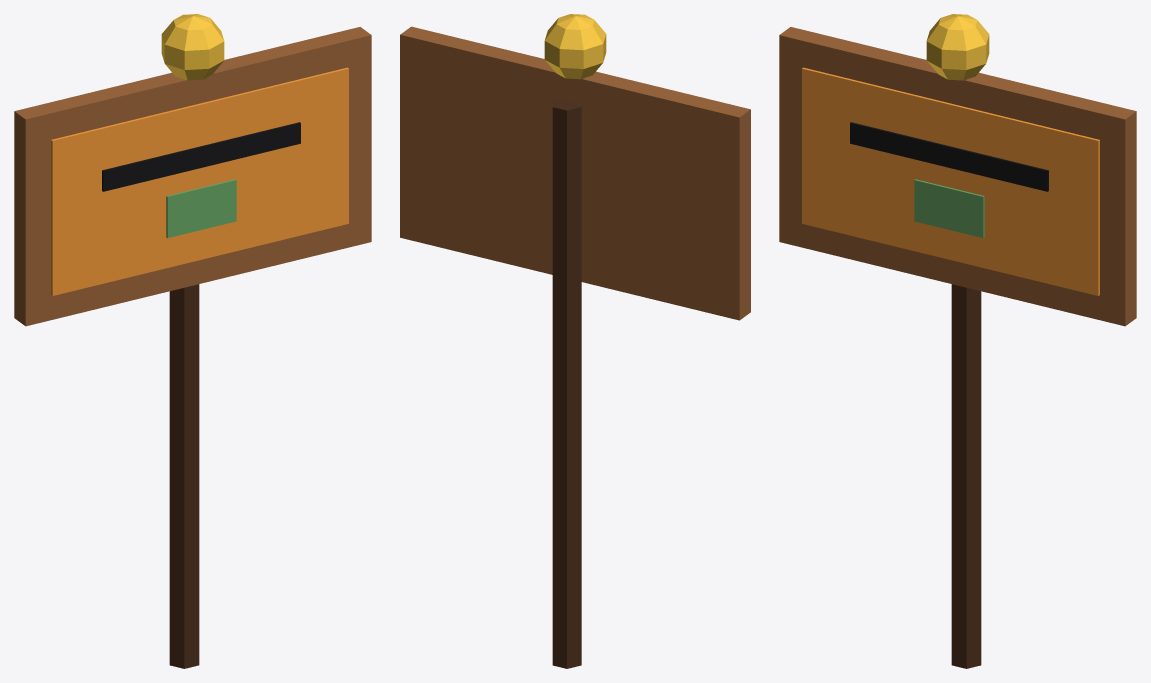
File: sale_sign.obj
3 renders of one model, left to right at view 1: azimuth 30°, elevation 25°; view 2: azimuth 150°, elevation 25°; view 3: azimuth 330°, elevation 25°, orthographic.
Parts seen in each view (by area): view 1: sale_sign; view 2: sale_sign; view 3: sale_sign.
Part boxes in pixels (x1,y1,x2,y2): sale_sign: (14, 14, 371, 668); sale_sign: (400, 14, 750, 668); sale_sign: (779, 14, 1136, 668).
Bounding box in the file's own units: 0.7 × 1.26 × 0.1142.
